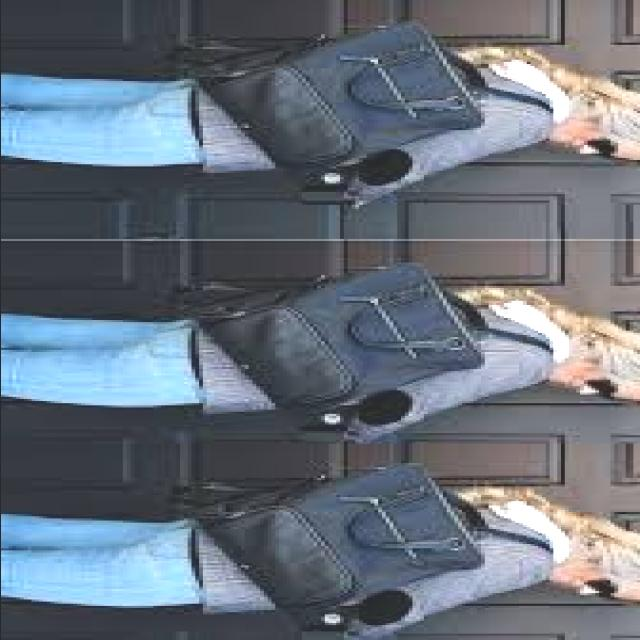backpack: (183, 17, 490, 180), (201, 456, 495, 624), (194, 264, 496, 423)
